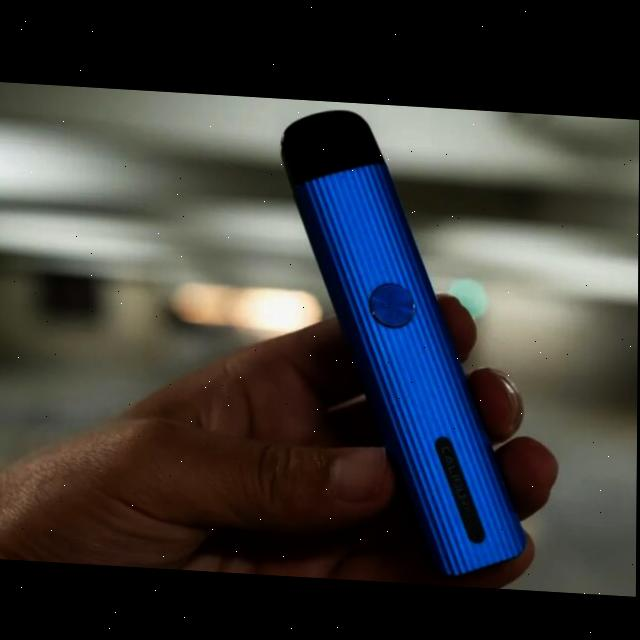vape: (279, 103, 529, 579)
